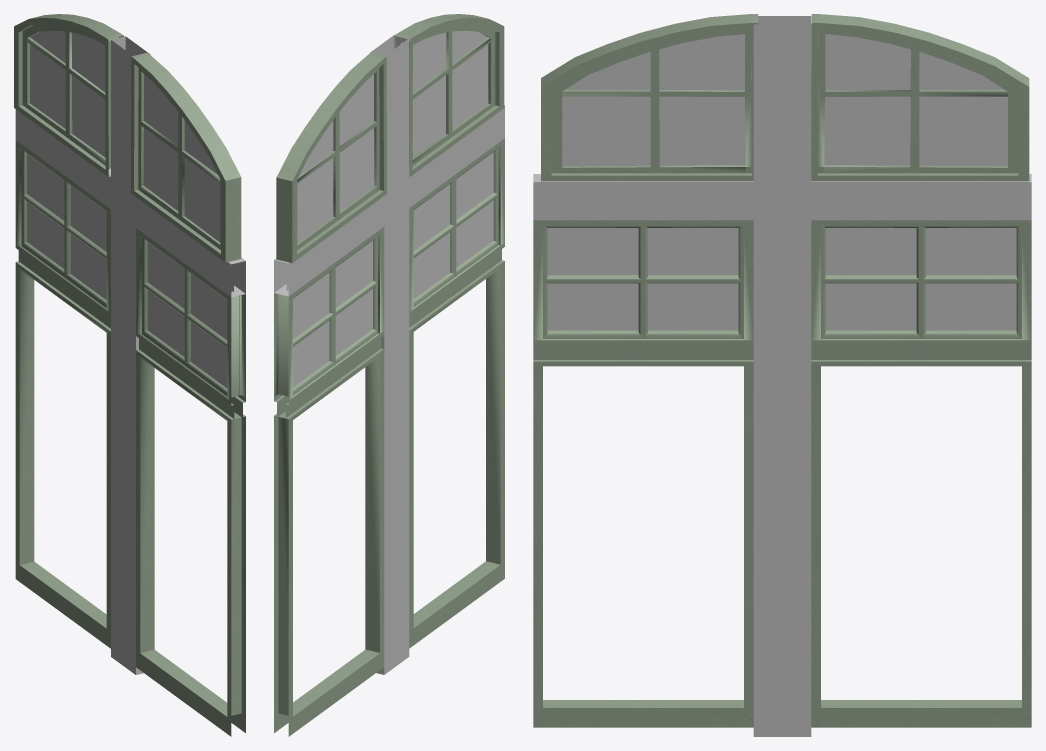
File: SM_WW23_Frame.fbx
3 views of the same model, side by side, from view 1: azimuth 30°, elevation 25°; view 2: azimuth 150°, elevation 25°; view 3: azimuth 270°, elevation 25° (orthographic). The views are drawn at different scales.
Visible parts, largest first — view 1: SM_WW23_Frame; view 2: SM_WW23_Frame; view 3: SM_WW23_Frame.
Boxes of the visible parts, bbox=[...] form: SM_WW23_Frame: bbox=[14, 14, 245, 736]; SM_WW23_Frame: bbox=[274, 14, 504, 736]; SM_WW23_Frame: bbox=[533, 14, 1031, 736].
Size of the model in its own units: 10.82 by 236 by 372.
